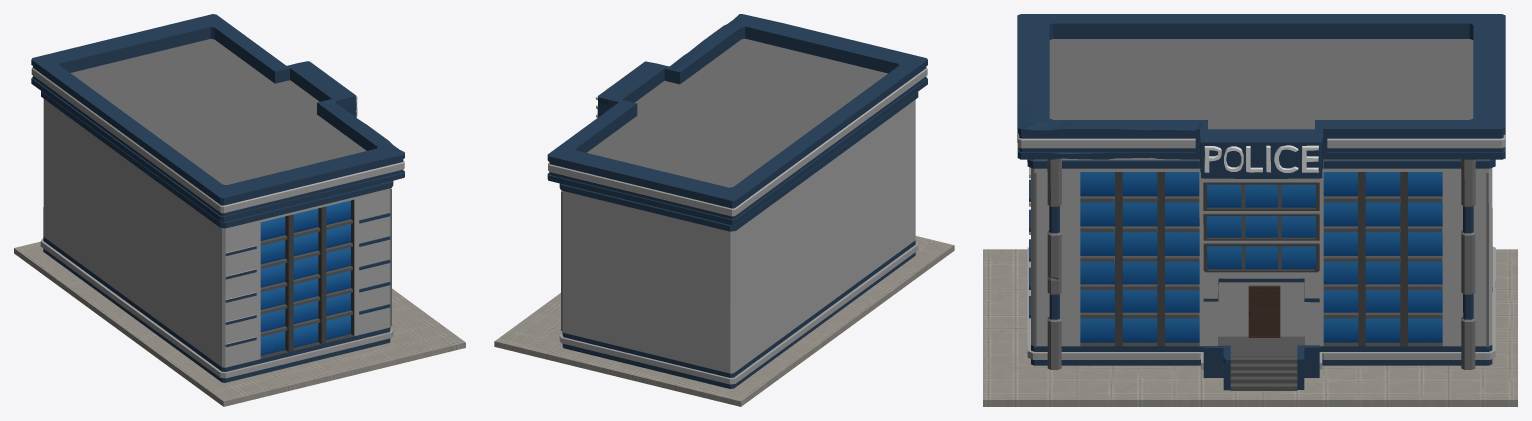
Rendered from Police_01.fbx.
3 renders of one model, left to right at view 1: azimuth 30°, elevation 25°; view 2: azimuth 150°, elevation 25°; view 3: azimuth 270°, elevation 25°, orthographic. The views are drawn at different scales.
Visible parts, largest first — view 1: Police_01; view 2: Police_01; view 3: Police_01.
Boxes of the visible parts, <box> form: Police_01: <box>14,14,465,406</box>; Police_01: <box>494,14,954,406</box>; Police_01: <box>983,14,1517,406</box>.
Bounding box in the file's own units: 2400 × 1852 × 3600.
